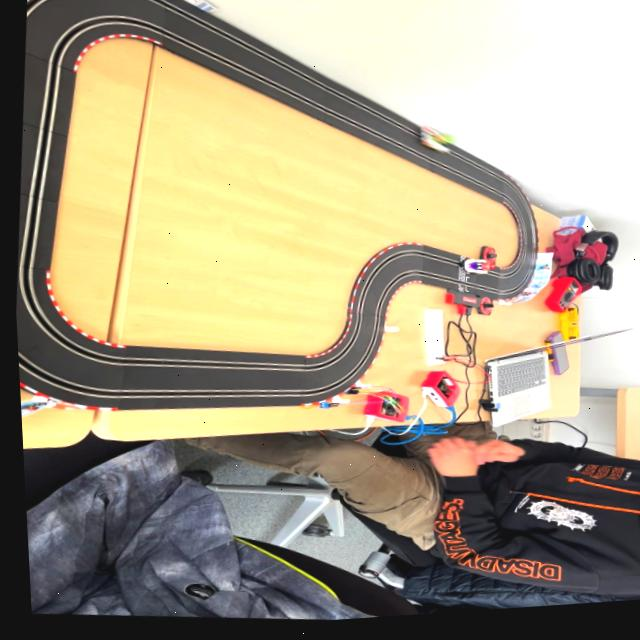mario: (457, 262, 493, 284)
yoshi: (414, 128, 456, 164)
